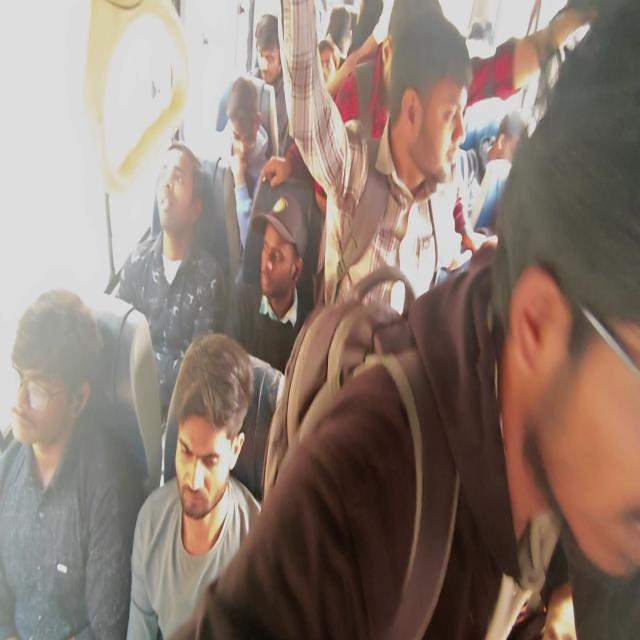person: (456, 106, 640, 640), (357, 23, 466, 253), (155, 336, 253, 556), (14, 279, 91, 482), (251, 175, 320, 342), (148, 143, 218, 299), (377, 0, 469, 96), (222, 65, 272, 179), (254, 9, 291, 100), (489, 101, 523, 171), (318, 25, 336, 100)
